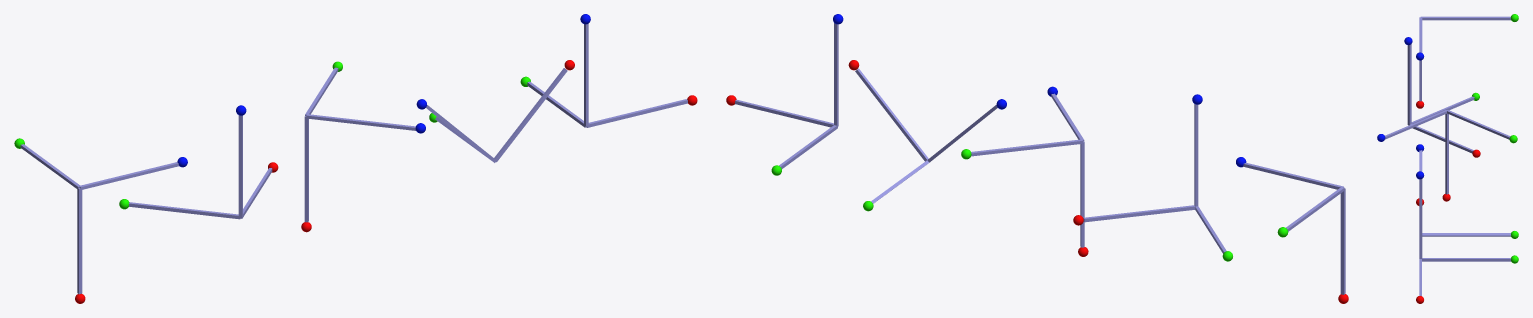
Rendered from simple_002_Rotation_00.dae.
The picture shows the model from 3 angles, left to right: view 1: azimuth 30°, elevation 25°; view 2: azimuth 150°, elevation 25°; view 3: azimuth 270°, elevation 25°; orthographic projection. The views are drawn at different scales.
Parts seen in each view (by area): view 1: Box13, Box04, Box11, Box09, Box03, Box15, Box07, Box01, Box12; view 2: Box13, Box04, Box10, Box08, Box03, Box15, Box01, Box12, Box07; view 3: Box14, Box12, Box02, Box05, Box07, Box01, Box08, Box09, Box10, Box11, Box15, Box13 (+1 smaller).
Part boxes in pixels (bbox=[...]): Box13: bbox=[77, 188, 82, 294]; Box04: bbox=[494, 68, 567, 162]; Box11: bbox=[129, 202, 240, 219]; Box09: bbox=[306, 114, 415, 130]; Box03: bbox=[586, 99, 687, 127]; Box15: bbox=[79, 162, 179, 189]; Box07: bbox=[304, 116, 308, 222]; Box01: bbox=[584, 23, 588, 126]; Box12: bbox=[238, 115, 242, 217]; Box13: bbox=[1340, 188, 1345, 294]; Box04: bbox=[855, 68, 928, 161]; Box10: bbox=[1083, 205, 1195, 222]; Box08: bbox=[971, 139, 1082, 156]; Box03: bbox=[735, 99, 833, 127]; Box15: bbox=[1243, 162, 1343, 189]; Box01: bbox=[834, 23, 838, 126]; Box12: bbox=[1194, 104, 1198, 206]; Box07: bbox=[1080, 141, 1084, 247]; Box14: bbox=[1420, 16, 1510, 20]; Box12: bbox=[1407, 44, 1411, 125]; Box02: bbox=[1422, 258, 1511, 261]; Box05: bbox=[1422, 233, 1510, 236]; Box07: bbox=[1445, 113, 1448, 194]; Box01: bbox=[1419, 179, 1422, 259]; Box08: bbox=[1446, 110, 1510, 139]; Box09: bbox=[1385, 110, 1446, 139]; Box10: bbox=[1410, 124, 1473, 153]; Box11: bbox=[1411, 96, 1474, 123]; Box15: bbox=[1419, 17, 1422, 52]; Box13: bbox=[1419, 60, 1421, 101].
Size of the model in its own units: 5553 by 1403 by 1416.
